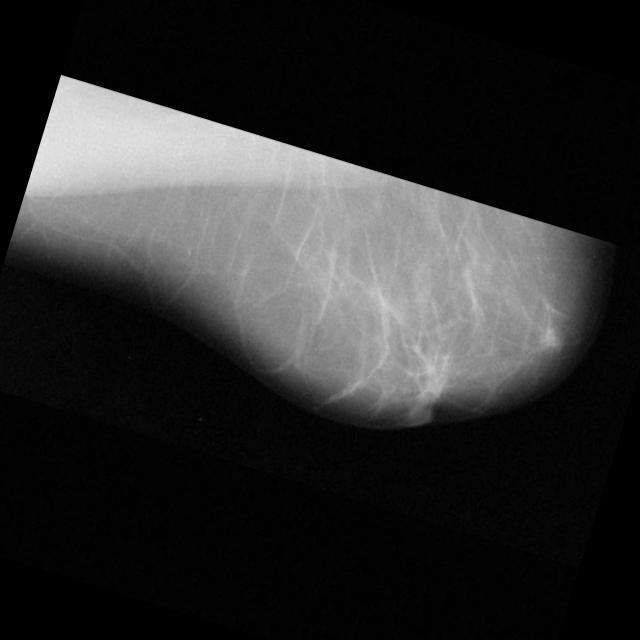CIRC: (536, 324, 566, 354)
